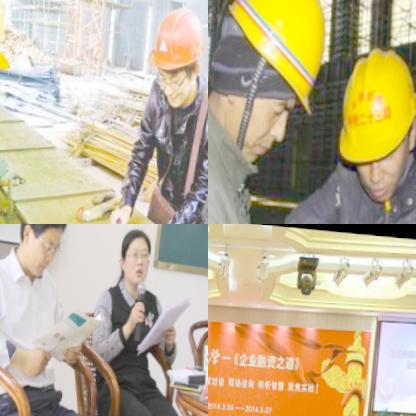head: (14, 224, 71, 281), (117, 224, 156, 287)
helmet: (208, 0, 333, 170), (328, 27, 416, 199), (142, 0, 208, 110), (0, 0, 23, 108)
